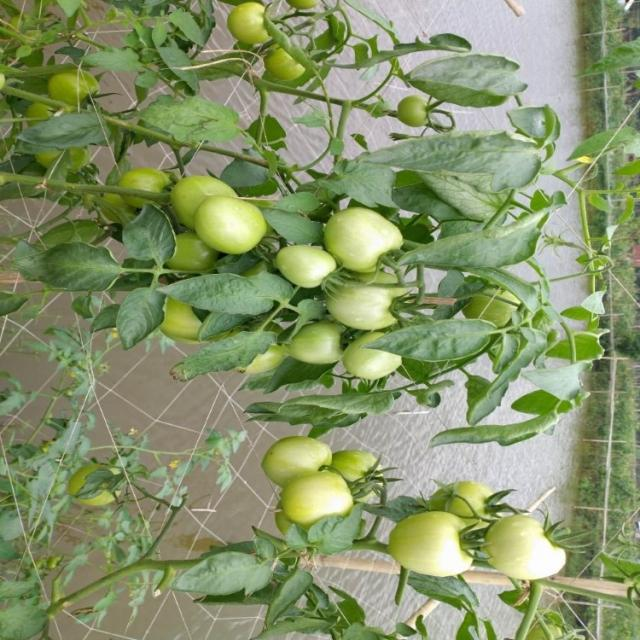tomato: (320, 277, 427, 343), (487, 507, 575, 586), (384, 510, 474, 586), (189, 198, 283, 260), (325, 203, 405, 272), (279, 473, 370, 531), (262, 437, 344, 490), (69, 456, 135, 518), (422, 471, 509, 516), (158, 292, 219, 356), (286, 317, 351, 374), (167, 172, 233, 221), (268, 236, 333, 285), (220, 1, 276, 54), (347, 338, 410, 385), (170, 229, 223, 276), (337, 444, 386, 492), (44, 67, 104, 106), (117, 171, 159, 212), (392, 96, 437, 134), (271, 50, 310, 86)
